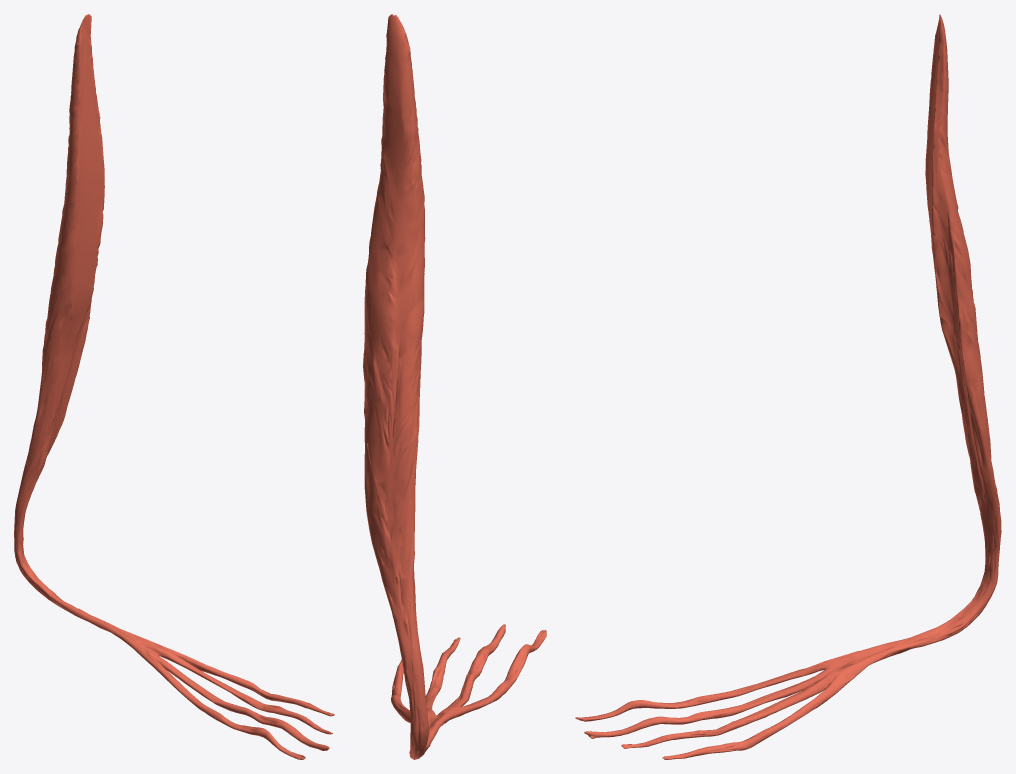
File: flexor-digitorum-longus.glb
3 views of the same model, side by side, from view 1: azimuth 30°, elevation 25°; view 2: azimuth 150°, elevation 25°; view 3: azimuth 270°, elevation 25° (orthographic). The views are drawn at different scales.
Parts seen in each view (by area): view 1: Flexor digitorum longus.l; view 2: Flexor digitorum longus.l; view 3: Flexor digitorum longus.l.
Part boxes in pixels (x1,y1,x2,y2): Flexor digitorum longus.l: (14, 14, 334, 759); Flexor digitorum longus.l: (363, 14, 546, 759); Flexor digitorum longus.l: (575, 14, 1001, 759).
Bounding box in the file's own units: 0.0945 × 0.3437 × 0.1932.
